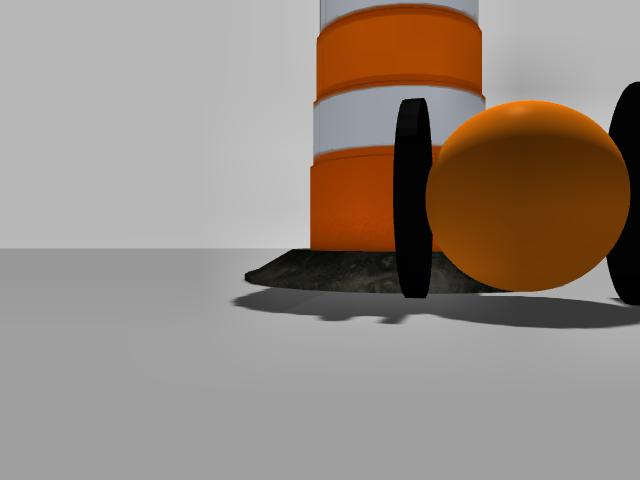target: (393, 81, 640, 306)
